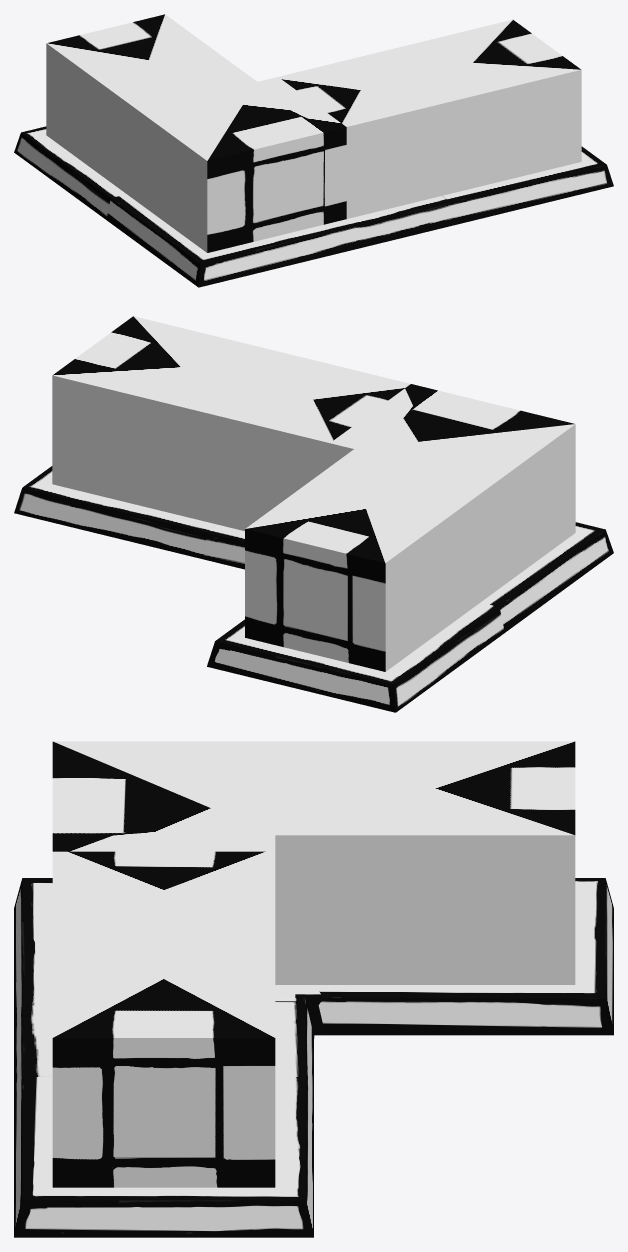
File: Zusammen für Substane.fbx
3 views of the same model, one above another, from view 1: azimuth 30°, elevation 25°; view 2: azimuth 150°, elevation 25°; view 3: azimuth 270°, elevation 25° (orthographic). The views are drawn at different scales.
Parts seen in each view (by area): view 1: 2 Sides connected House, 3 Sides House, 3 Sides House.001, 2 Sides iddle, 2 Sides Ground, 3 Sides Ground, 3 Sides Ground.001, 2 Sides Middle Groud; view 2: 3 Sides House.001, 3 Sides House, 2 Sides connected House, 2 Sides iddle, 3 Sides Ground.001, 3 Sides Ground, 2 Sides Ground, 2 Sides Middle Groud; view 3: 3 Sides House.001, 3 Sides House, 2 Sides connected House, 3 Sides Ground, 3 Sides Ground.001, 2 Sides iddle, 2 Sides Ground, 2 Sides Middle Groud.
Boxes of the visible parts, left/top/right/bottom form: 2 Sides connected House: left=127, top=73, right=346, bottom=252; 3 Sides House: left=374, top=19, right=581, bottom=195; 3 Sides House.001: left=46, top=14, right=245, bottom=193; 2 Sides iddle: left=278, top=53, right=442, bottom=218; 2 Sides Ground: left=106, top=194, right=357, bottom=287; 3 Sides Ground: left=442, top=146, right=613, bottom=225; 3 Sides Ground.001: left=14, top=126, right=126, bottom=219; 2 Sides Middle Groud: left=347, top=196, right=453, bottom=248; 3 Sides House.001: left=245, top=459, right=480, bottom=671; 3 Sides House: left=52, top=316, right=297, bottom=524; 2 Sides connected House: left=330, top=384, right=575, bottom=601; 2 Sides iddle: left=217, top=356, right=410, bottom=531; 3 Sides Ground.001: left=207, top=602, right=504, bottom=712; 3 Sides Ground: left=14, top=466, right=216, bottom=559; 2 Sides Ground: left=481, top=522, right=613, bottom=632; 2 Sides Middle Groud: left=203, top=524, right=244, bottom=569; 3 Sides House.001: left=314, top=741, right=575, bottom=984; 3 Sides House: left=52, top=927, right=275, bottom=1187; 2 Sides connected House: left=52, top=741, right=313, bottom=984; 3 Sides Ground: left=14, top=1077, right=313, bottom=1237; 3 Sides Ground.001: left=314, top=878, right=613, bottom=1035; 2 Sides iddle: left=52, top=851, right=275, bottom=927; 2 Sides Ground: left=14, top=878, right=325, bottom=1038; 2 Sides Middle Groud: left=14, top=1001, right=313, bottom=1109.
Bounding box in the file's own units: 519 × 135 × 400.
